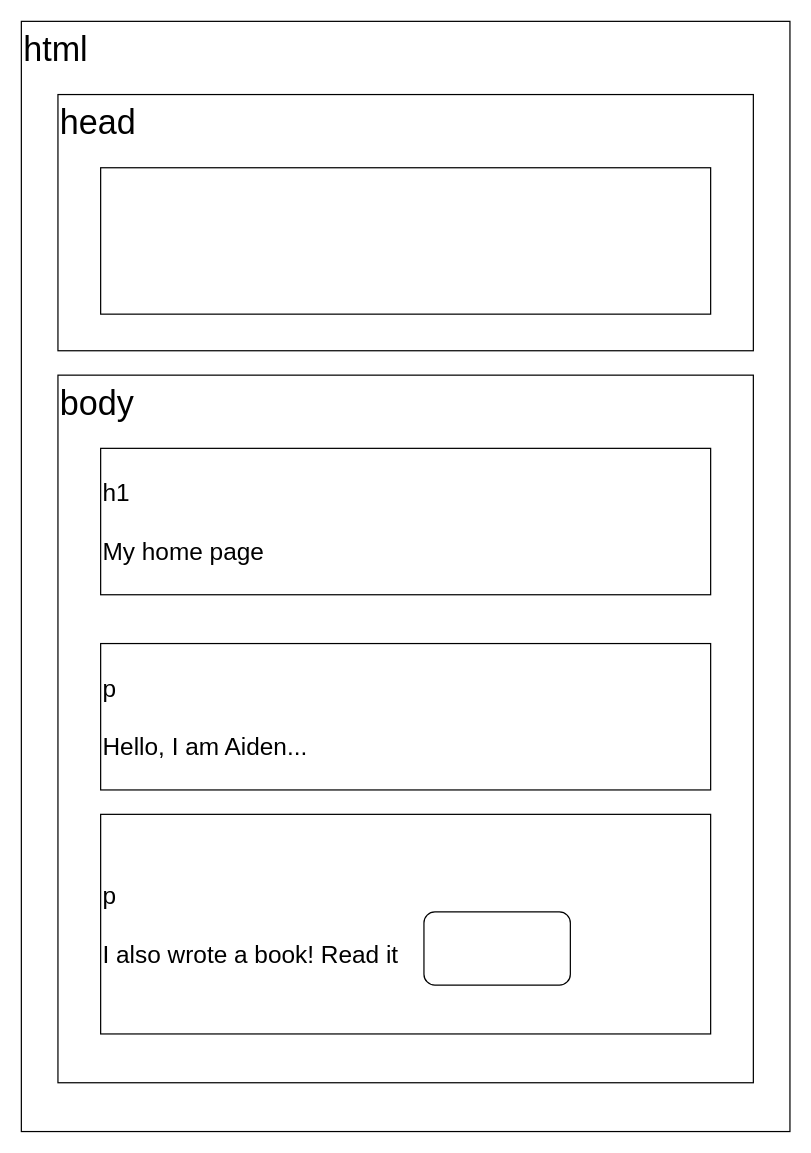
Some shapes in this 811 by 1153 pixel diagram are drawn without their labels. The centre of each missing label's shape, as x and y in pixels:
a here: pixel 496 948
title My home page: pixel 405 240
